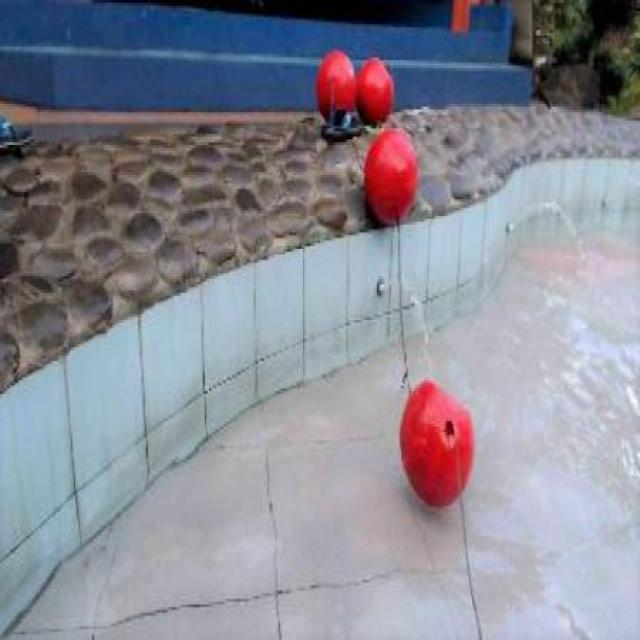buoy: (399, 379, 474, 507), (364, 129, 418, 227), (316, 49, 356, 120), (356, 53, 392, 122)
